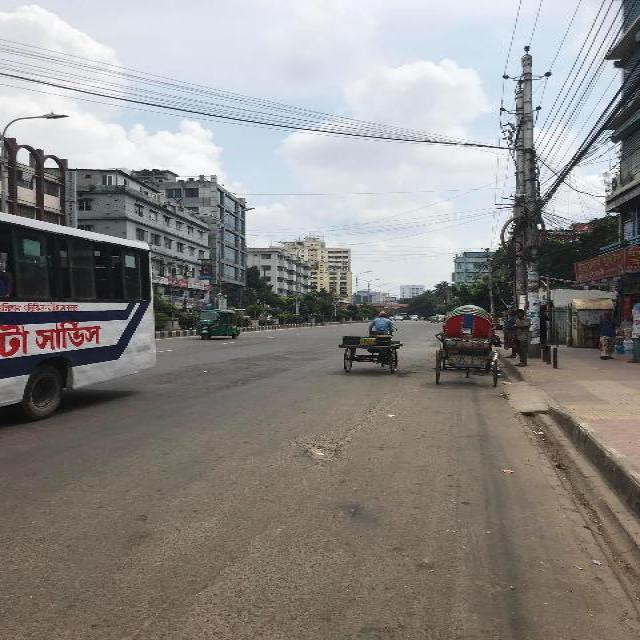bus: (0, 210, 156, 417)
car: (394, 314, 402, 320)
rickshaw: (432, 303, 500, 387), (336, 309, 403, 376)
three wheelers -CNG-: (195, 308, 240, 339), (430, 315, 438, 323)
van: (410, 314, 418, 320)
